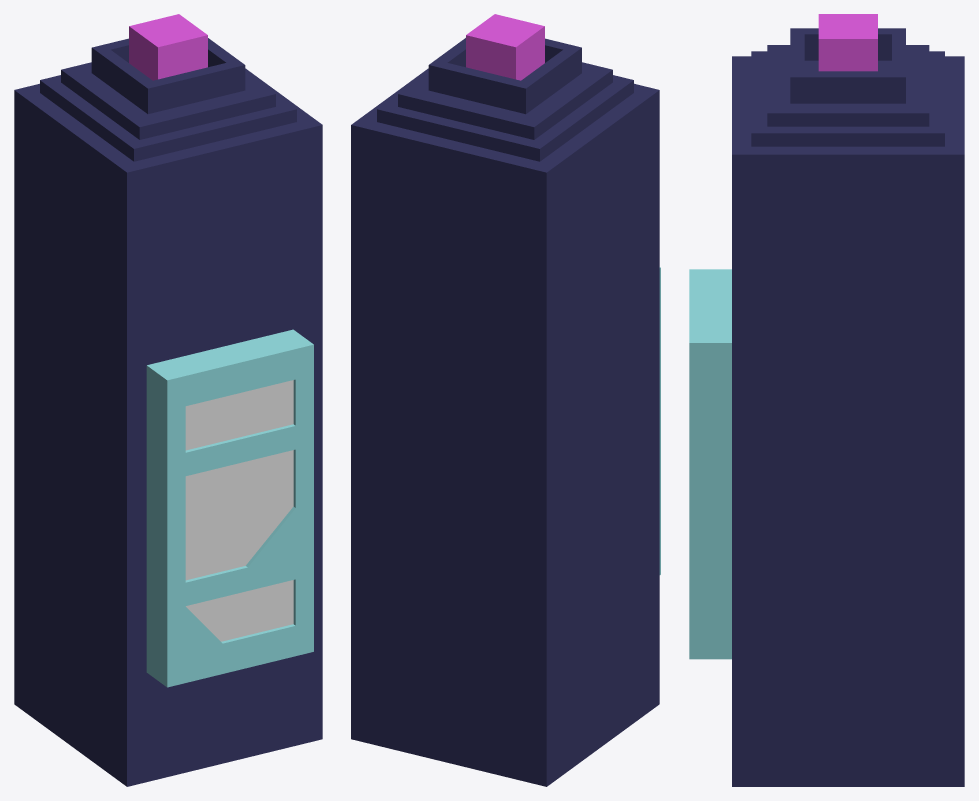
Rendered from Building_10.fbx.
3 renders of one model, left to right at view 1: azimuth 30°, elevation 25°; view 2: azimuth 150°, elevation 25°; view 3: azimuth 270°, elevation 25°, orthographic. The views are drawn at different scales.
Visible parts, largest first — view 1: pCube44; view 2: pCube44; view 3: pCube44.
Boxes of the visible parts, <box> form: pCube44: <box>14,14,322,786</box>; pCube44: <box>351,14,660,786</box>; pCube44: <box>689,14,964,786</box>.
Bounding box in the file's own units: 2 × 6.75 × 2.37.
